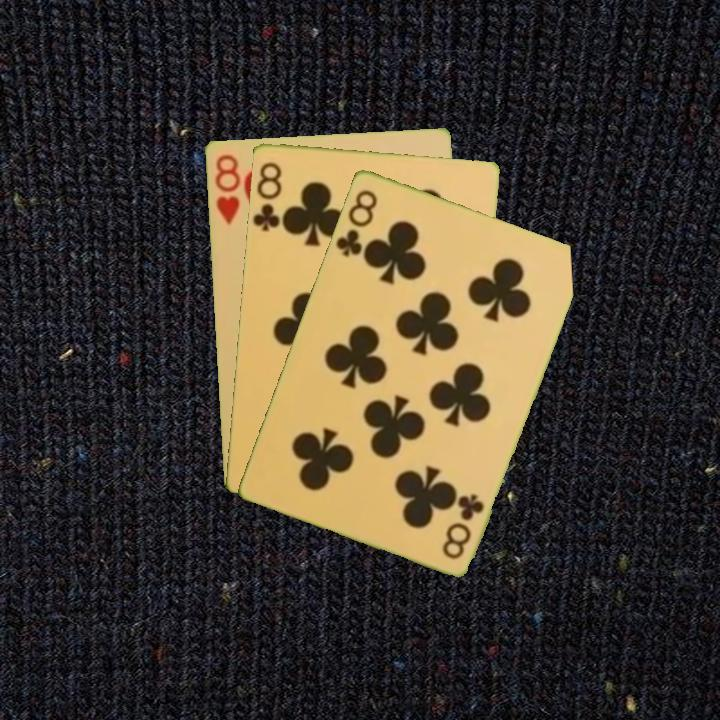8c: (332, 185, 380, 260), (438, 489, 487, 562), (250, 158, 286, 234)
8h: (211, 150, 243, 227)
